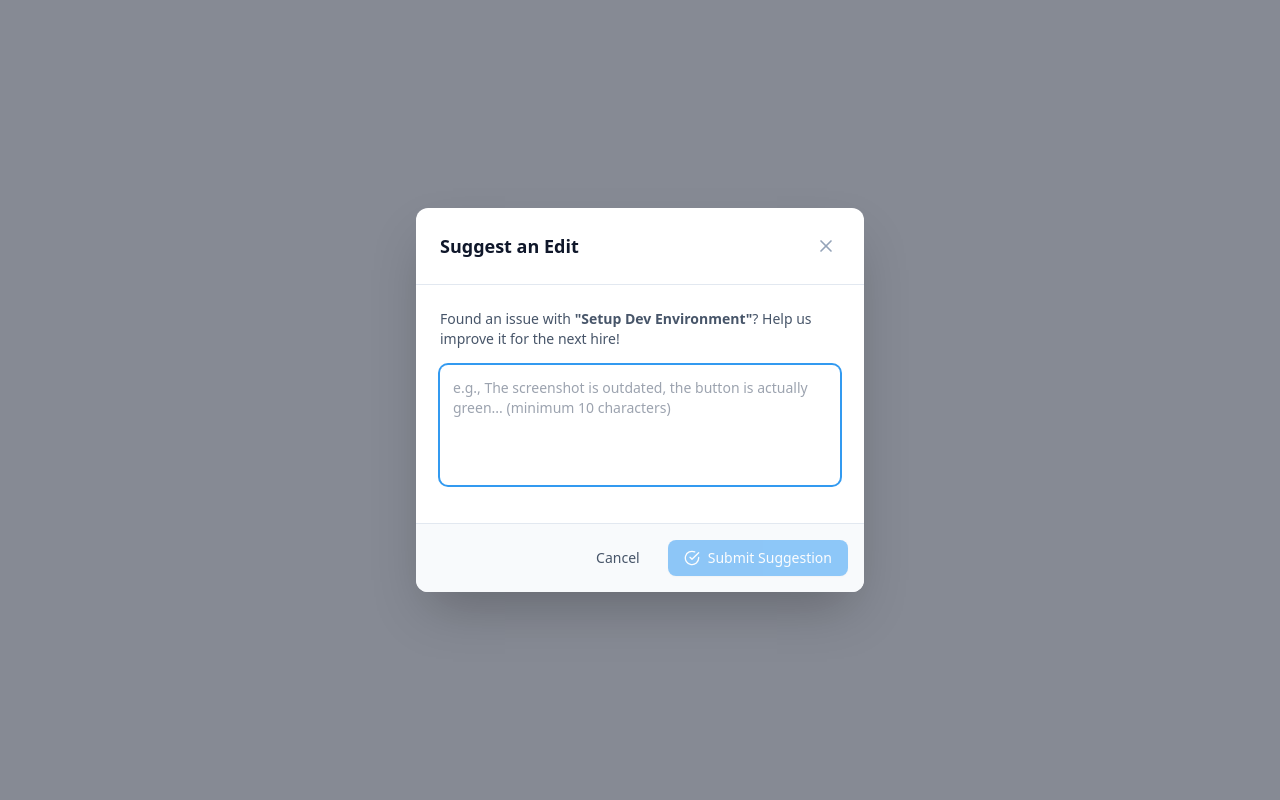
SuggestEditModal › success banner contains dark:bg-emerald-900/20
Type "This is a valid suggestion with enough text" into the text box named "Suggestion text" at (640, 425), box [440,365,840,485]
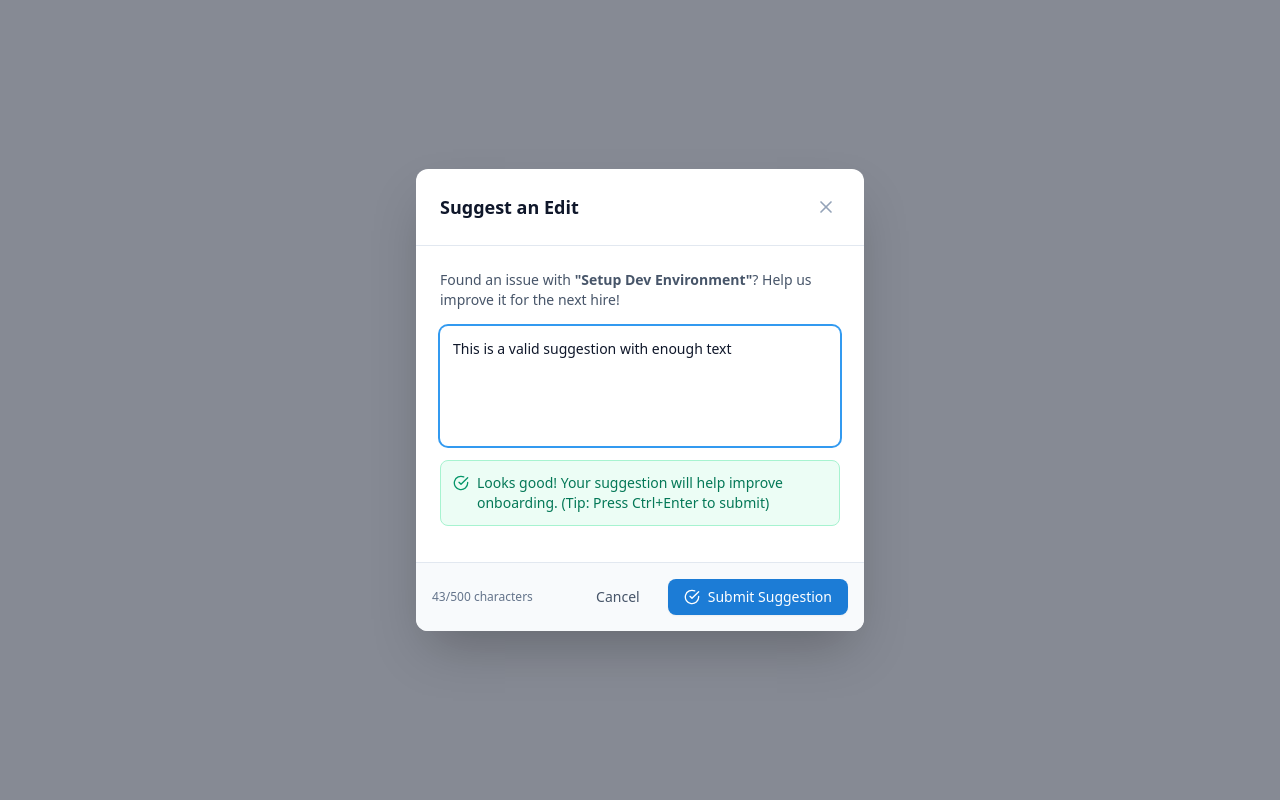
Expected: the text "Looks good!" is shown, [477,473,783,512]
